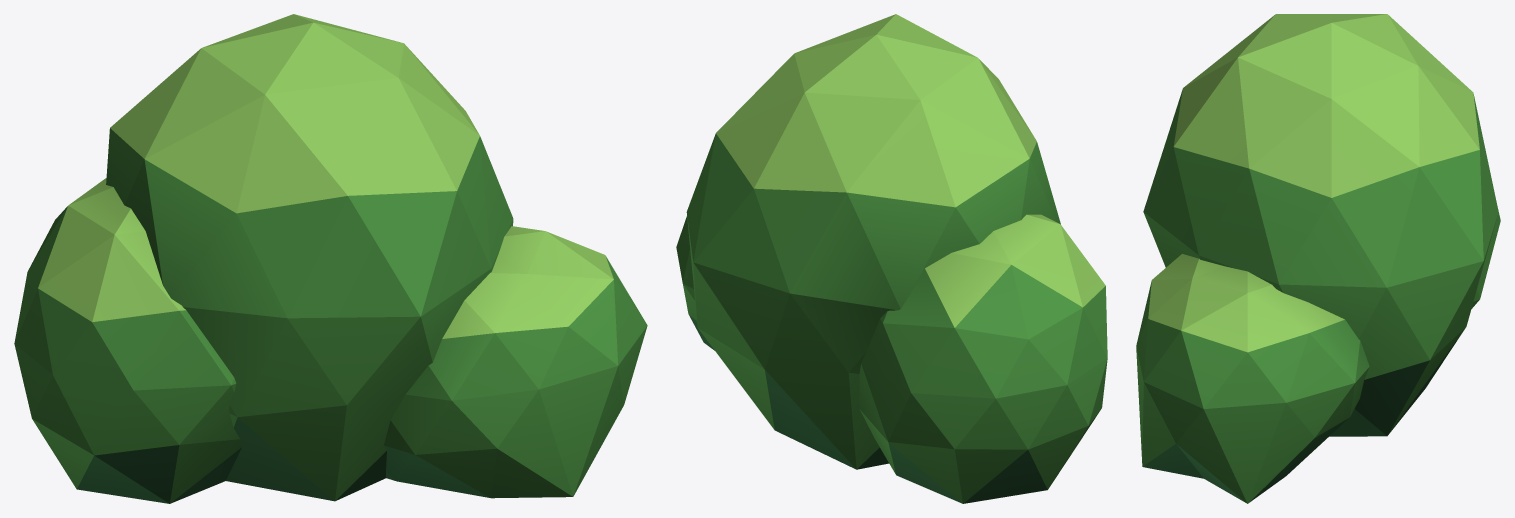
File: shrub_round_b.glb
3 views of the same model, side by side, from view 1: azimuth 30°, elevation 25°; view 2: azimuth 150°, elevation 25°; view 3: azimuth 270°, elevation 25° (orthographic). The views are drawn at different scales.
Parts seen in each view (by area): view 1: Body; view 2: Body; view 3: Body.
Boxes of the visible parts, x1,y1,x2,y2 form: Body: (14,14,647,503); Body: (676,14,1107,503); Body: (1136,14,1500,503).
Bounding box in the file's own units: 1 × 0.7974 × 0.6949.
1 material, 1 textured.
